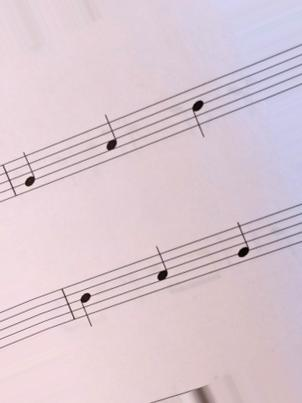note: (146, 243, 174, 298), (227, 220, 254, 277), (14, 148, 42, 198), (76, 278, 99, 336), (188, 86, 211, 143), (98, 111, 121, 168)
